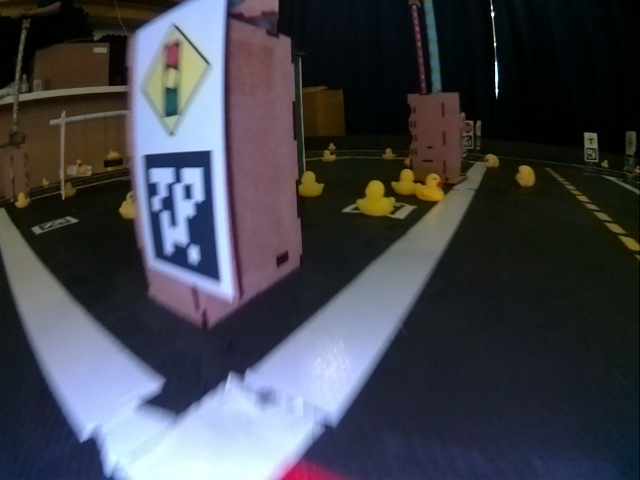Duckie: (357, 181, 392, 215), (417, 174, 444, 200), (392, 169, 417, 195), (299, 171, 322, 197), (119, 192, 135, 219), (517, 166, 530, 187), (483, 154, 499, 168), (15, 193, 30, 206)
Intersection sign: (586, 134, 595, 145)
QR code: (142, 151, 222, 282), (343, 199, 412, 217), (32, 216, 78, 235), (586, 148, 596, 160)
Signal sign: (141, 23, 211, 140)
